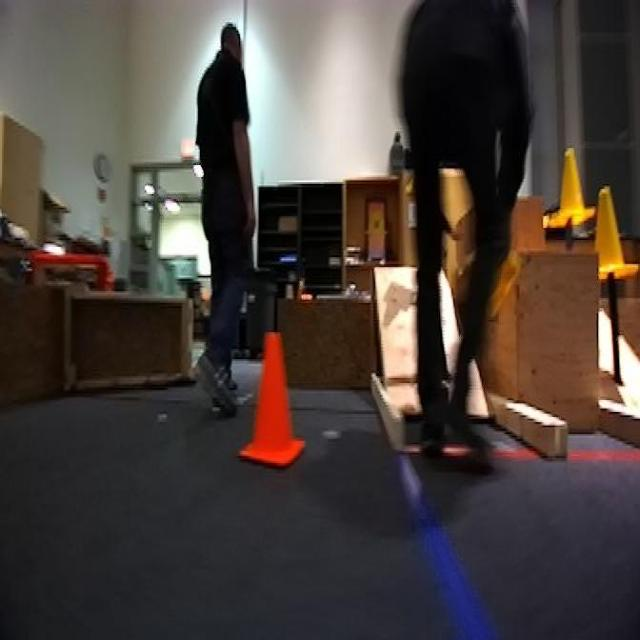frc_cone: (588, 187, 636, 279), (546, 148, 594, 232)
